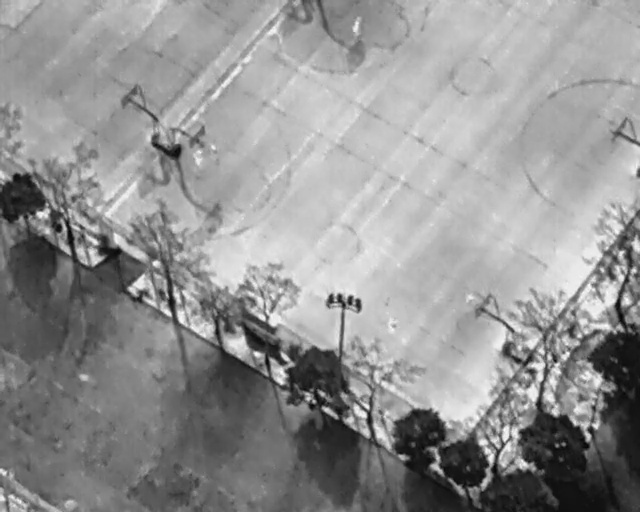Person: (352, 14, 363, 37), (194, 146, 202, 169), (388, 313, 397, 333), (210, 142, 217, 162)
